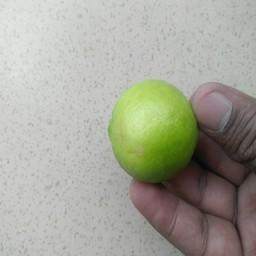Good_lime: (106, 77, 199, 181)
